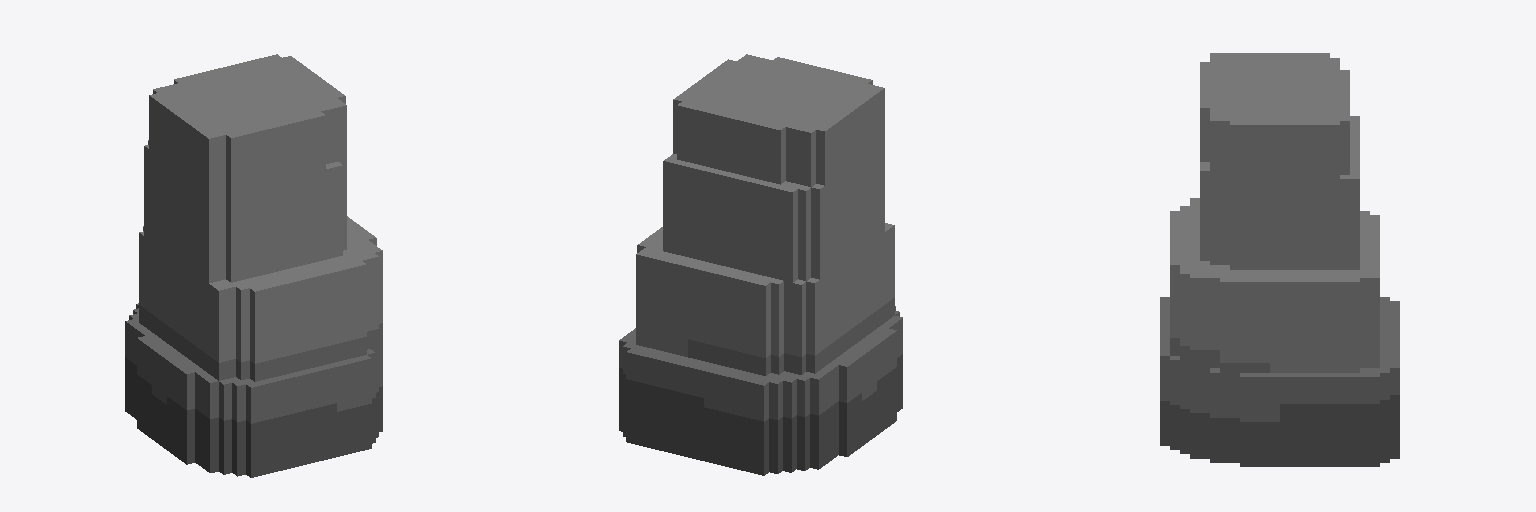
3 views of the same model, side by side, from view 1: azimuth 30°, elevation 25°; view 2: azimuth 150°, elevation 25°; view 3: azimuth 270°, elevation 25° (orthographic).
Visible parts, largest first — view 1: object 1; view 2: object 1; view 3: object 1.
Boxes of the visible parts, <box> form: object 1: <box>125,54,382,477</box>; object 1: <box>619,54,902,475</box>; object 1: <box>1160,53,1399,466</box>.
Bounding box in the file's own units: 2.3 × 3.6 × 2.4.
Materials: 1 (1 with a texture image).